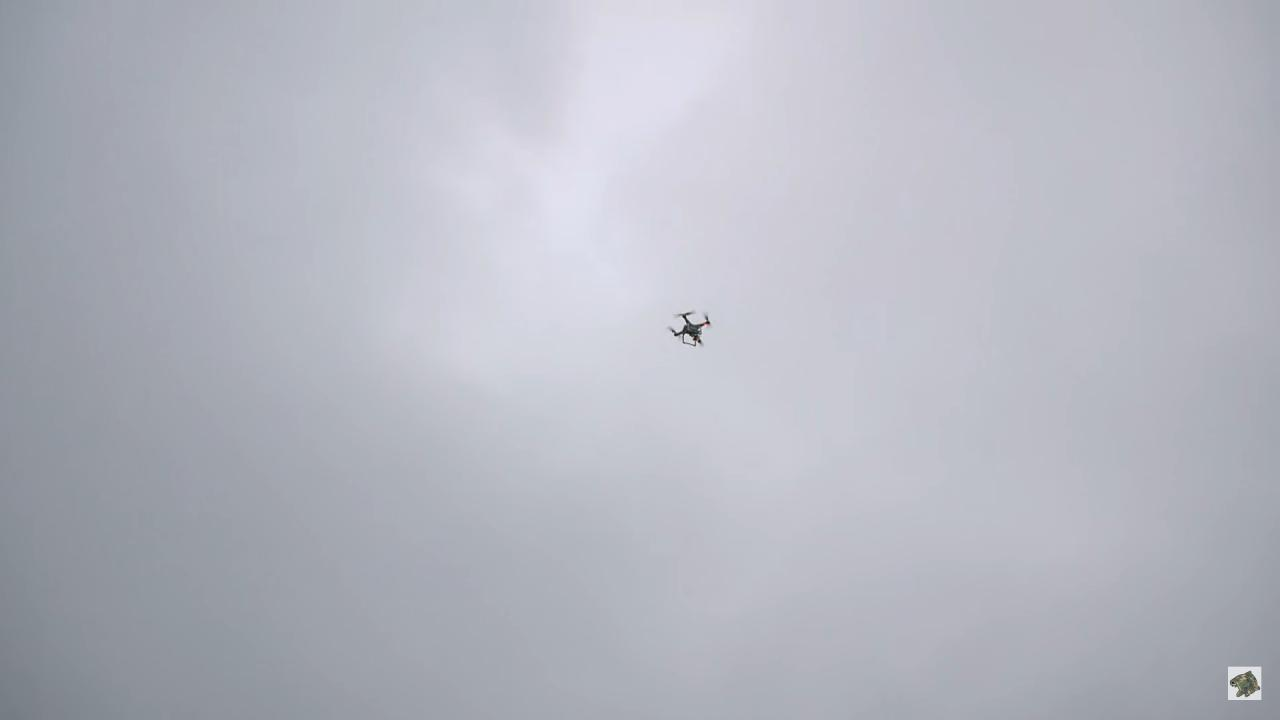Drone: (660, 302, 724, 358)
